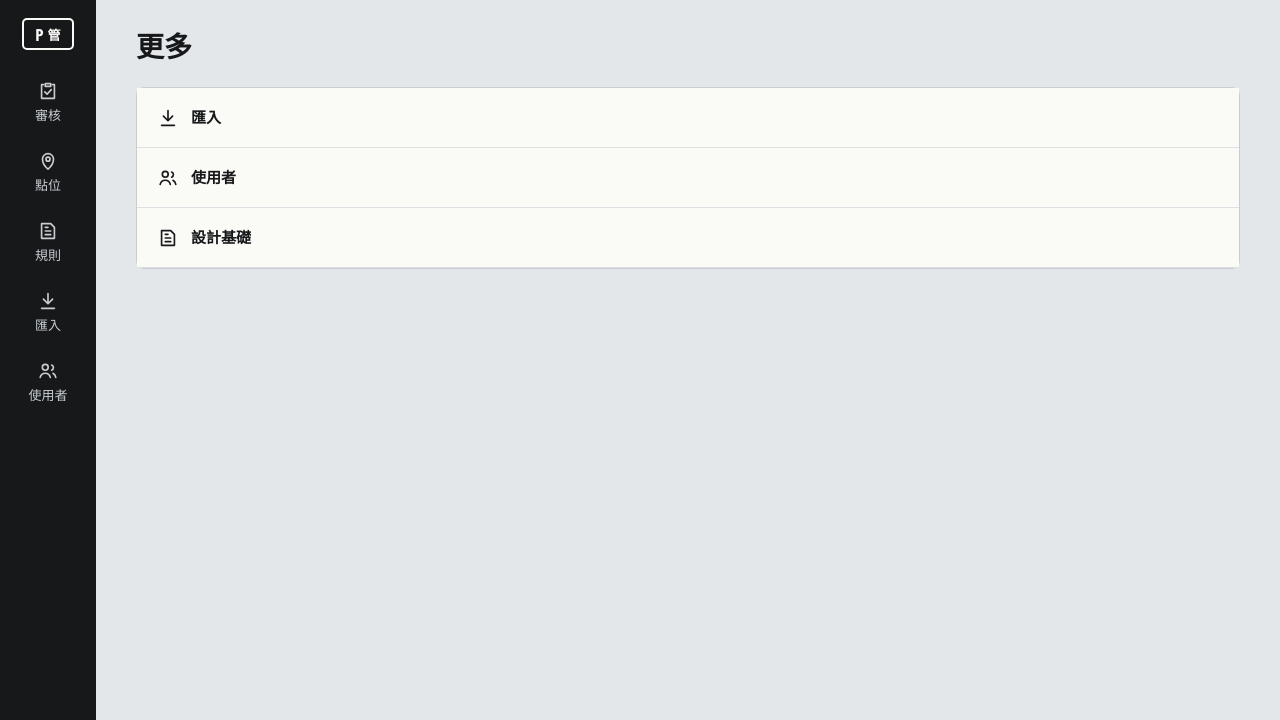
it: AppShell › keeps 更多 current on the pages it leads to
This screenshot has width=1280, height=720.
Click the link "匯入" below "更多": (206, 117) [137,88,1239,148]
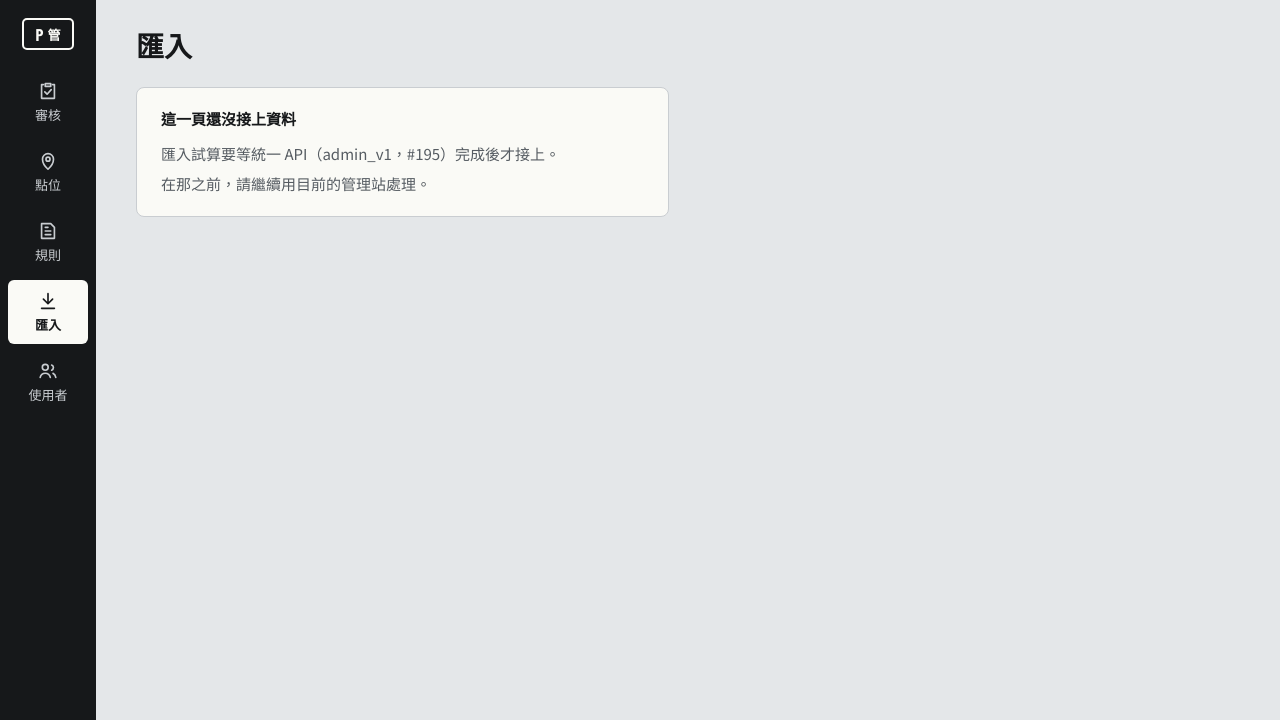
Now the heading "匯入" is shown, box [136,28,192,63]
